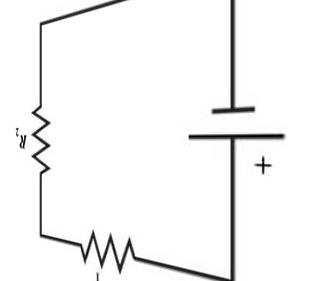resistor: (66, 216, 141, 271), (30, 95, 56, 189)
